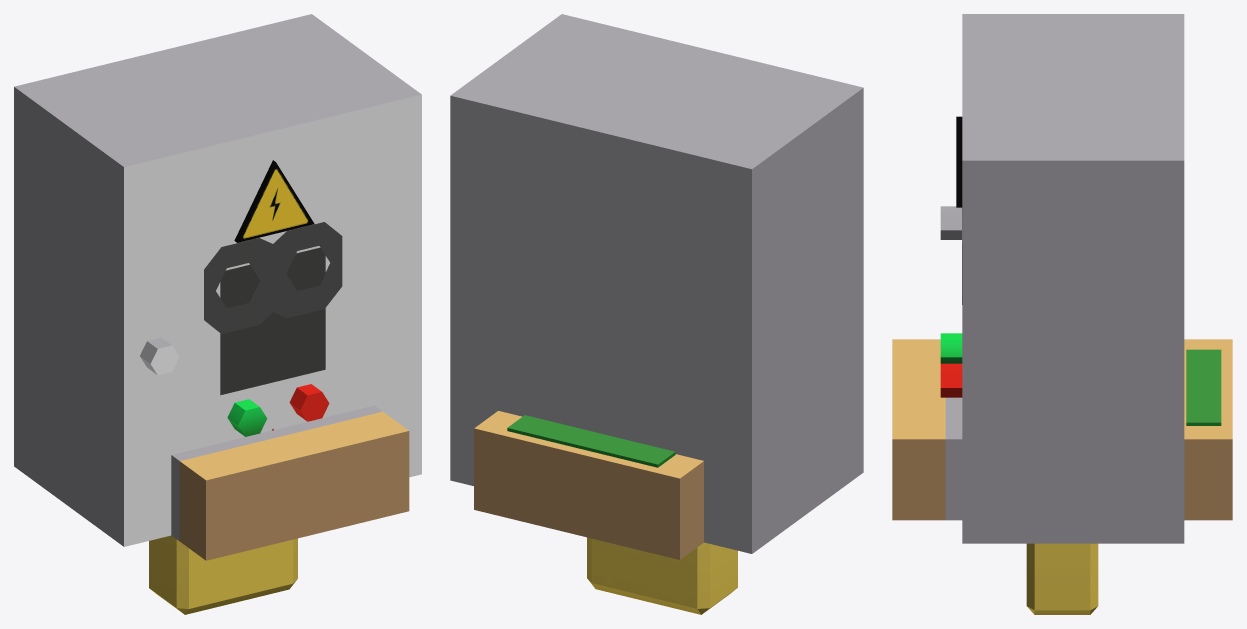
Rendered from New_asset.fbx.
3 renders of one model, left to right at view 1: azimuth 30°, elevation 25°; view 2: azimuth 150°, elevation 25°; view 3: azimuth 270°, elevation 25°, orthographic.
Parts seen in each view (by area): view 1: Tudien, C4, Turret, Lock; view 2: Tudien, C4, Lock; view 3: Tudien, C4, Lock.
Boxes of the visible parts, left/top/right/bottom form: Tudien: left=14, top=14, right=421, bottom=546; C4: left=171, top=405, right=409, bottom=560; Turret: left=204, top=222, right=342, bottom=333; Lock: left=149, top=535, right=297, bottom=614; Tudien: left=450, top=14, right=863, bottom=553; C4: left=474, top=411, right=703, bottom=559; Lock: left=587, top=537, right=737, bottom=614; Tudien: left=940, top=14, right=1184, bottom=543; C4: left=892, top=339, right=1232, bottom=520; Lock: left=1026, top=543, right=1098, bottom=614.
Bounding box in the file's own units: 2.16 × 3.44 × 2.11.
